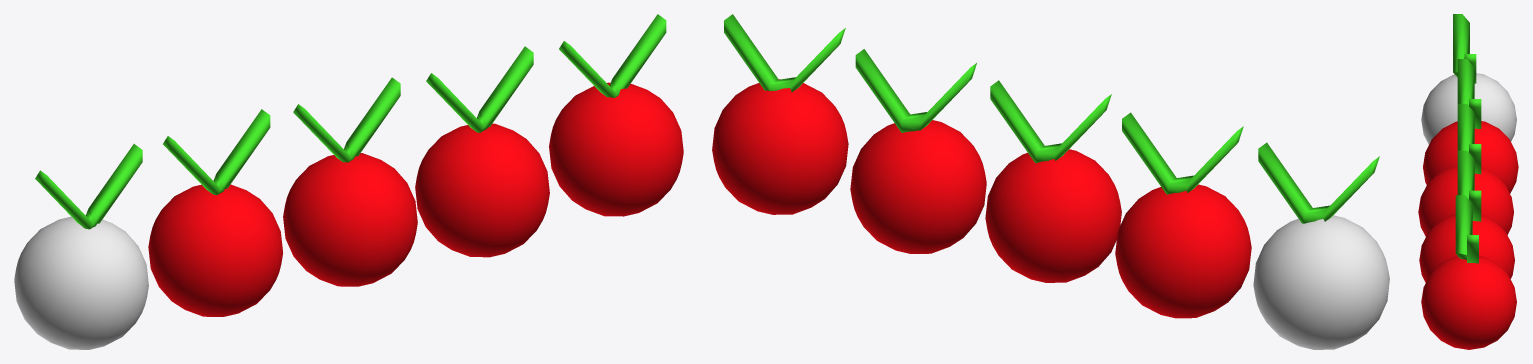
File: cherry.fbx
3 views of the same model, side by side, from view 1: azimuth 30°, elevation 25°; view 2: azimuth 150°, elevation 25°; view 3: azimuth 270°, elevation 25° (orthographic). The views are drawn at different scales.
Parts seen in each view (by area): view 1: Icosphere.001, Icosphere.002, Icosphere.003, Icosphere.004, Icosphere, Cube.002, Cube.004, Cube.005, Cube.003, Cube.000; view 2: Icosphere.004, Icosphere.003, Icosphere.001, Icosphere, Icosphere.002, Cube.002, Cube.003, Cube.004, Cube.005, Cube.000; view 3: Icosphere, Icosphere.004, Icosphere.002, Icosphere.003, Icosphere.001, Cube.000, Cube.002, Cube.003, Cube.004, Cube.005.
Part boxes in pixels (left/top/right/bottom): Icosphere.001: left=415, top=123, right=549, bottom=257; Icosphere.002: left=283, top=153, right=417, bottom=286; Icosphere.003: left=148, top=184, right=282, bottom=316; Icosphere.004: left=14, top=216, right=148, bottom=349; Icosphere: left=549, top=82, right=683, bottom=216; Cube.002: left=426, top=46, right=533, bottom=132; Cube.004: left=163, top=109, right=270, bottom=195; Cube.005: left=35, top=144, right=142, bottom=229; Cube.003: left=293, top=77, right=400, bottom=162; Cube.000: left=559, top=14, right=666, bottom=97; Icosphere.004: left=1253, top=215, right=1389, bottom=349; Icosphere.003: left=1115, top=184, right=1251, bottom=318; Icosphere.001: left=850, top=120, right=986, bottom=253; Icosphere: left=712, top=79, right=848, bottom=214; Icosphere.002: left=985, top=149, right=1121, bottom=282; Cube.002: left=855, top=49, right=976, bottom=132; Cube.003: left=990, top=80, right=1111, bottom=163; Cube.004: left=1122, top=112, right=1243, bottom=194; Cube.005: left=1258, top=142, right=1379, bottom=223; Cube.000: left=724, top=14, right=845, bottom=92; Icosphere: left=1421, top=256, right=1516, bottom=349; Icosphere.004: left=1421, top=73, right=1516, bottom=144; Icosphere.002: left=1418, top=165, right=1513, bottom=236; Icosphere.003: left=1423, top=121, right=1518, bottom=193; Icosphere.001: left=1419, top=214, right=1514, bottom=282; Cube.000: left=1455, top=195, right=1478, bottom=263; Cube.002: left=1457, top=150, right=1481, bottom=221; Cube.003: left=1457, top=104, right=1481, bottom=174; Cube.004: left=1457, top=59, right=1481, bottom=128; Cube.005: left=1453, top=14, right=1476, bottom=83.
Size of the model in its own units: 1111 by 314 by 209.
